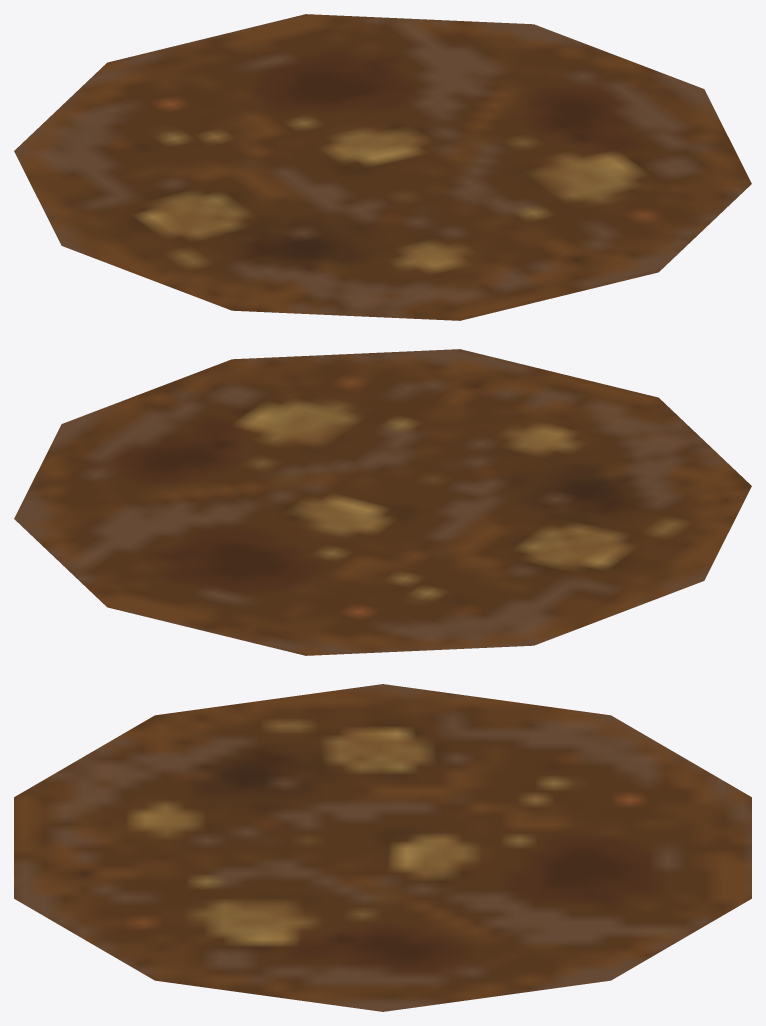
File: cookedSoup.fbx
3 renders of one model, top to bottom at view 1: azimuth 30°, elevation 25°; view 2: azimuth 150°, elevation 25°; view 3: azimuth 270°, elevation 25°, orthographic. The views are drawn at different scales.
Parts seen in each view (by area): view 1: pCylinder20; view 2: pCylinder20; view 3: pCylinder20.
Part boxes in pixels (x1=…): pCylinder20: x1=14, y1=14, x2=751, y2=320; pCylinder20: x1=14, y1=349, x2=751, y2=655; pCylinder20: x1=14, y1=684, x2=751, y2=1011.
Size of the model in its own units: 643 by 9.96e-05 by 611.
